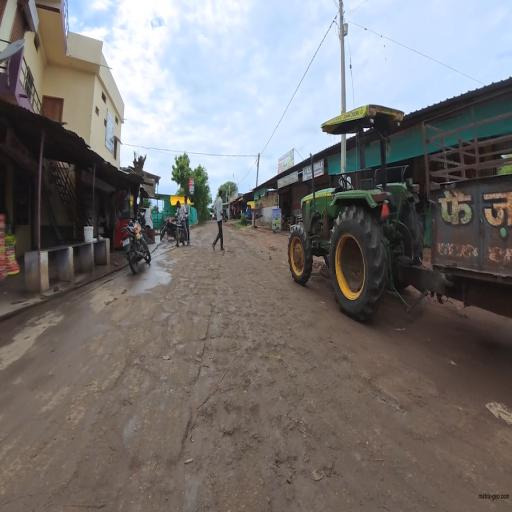ravelling: (125, 276, 319, 493)
